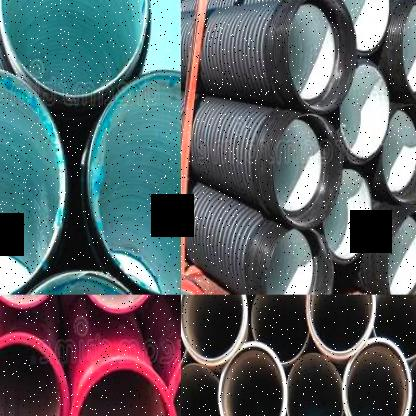pipe: (87, 69, 181, 295), (0, 67, 66, 295), (0, 0, 147, 96), (272, 113, 343, 229), (286, 0, 358, 112), (67, 358, 178, 416), (0, 331, 69, 416), (320, 166, 374, 264), (218, 340, 287, 416), (339, 60, 390, 161), (305, 294, 376, 361), (181, 295, 247, 367), (266, 229, 334, 294), (251, 295, 309, 365), (381, 101, 416, 205), (287, 352, 343, 416), (12, 271, 150, 295), (371, 294, 416, 358), (338, 0, 389, 55), (387, 208, 416, 295), (181, 363, 222, 416), (402, 0, 416, 105), (407, 350, 416, 416)
